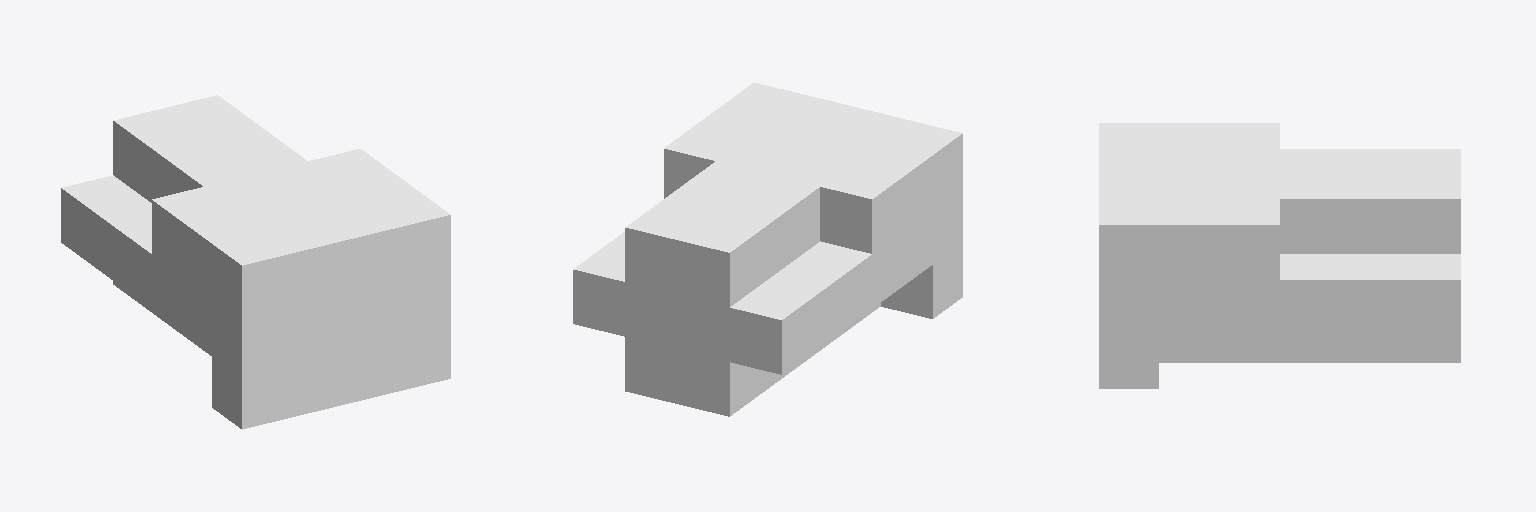
Rendered from TailBottom.obj.
3 views of the same model, side by side, from view 1: azimuth 30°, elevation 25°; view 2: azimuth 150°, elevation 25°; view 3: azimuth 270°, elevation 25° (orthographic).
Size of the model in its own units: 4 by 3 by 6.